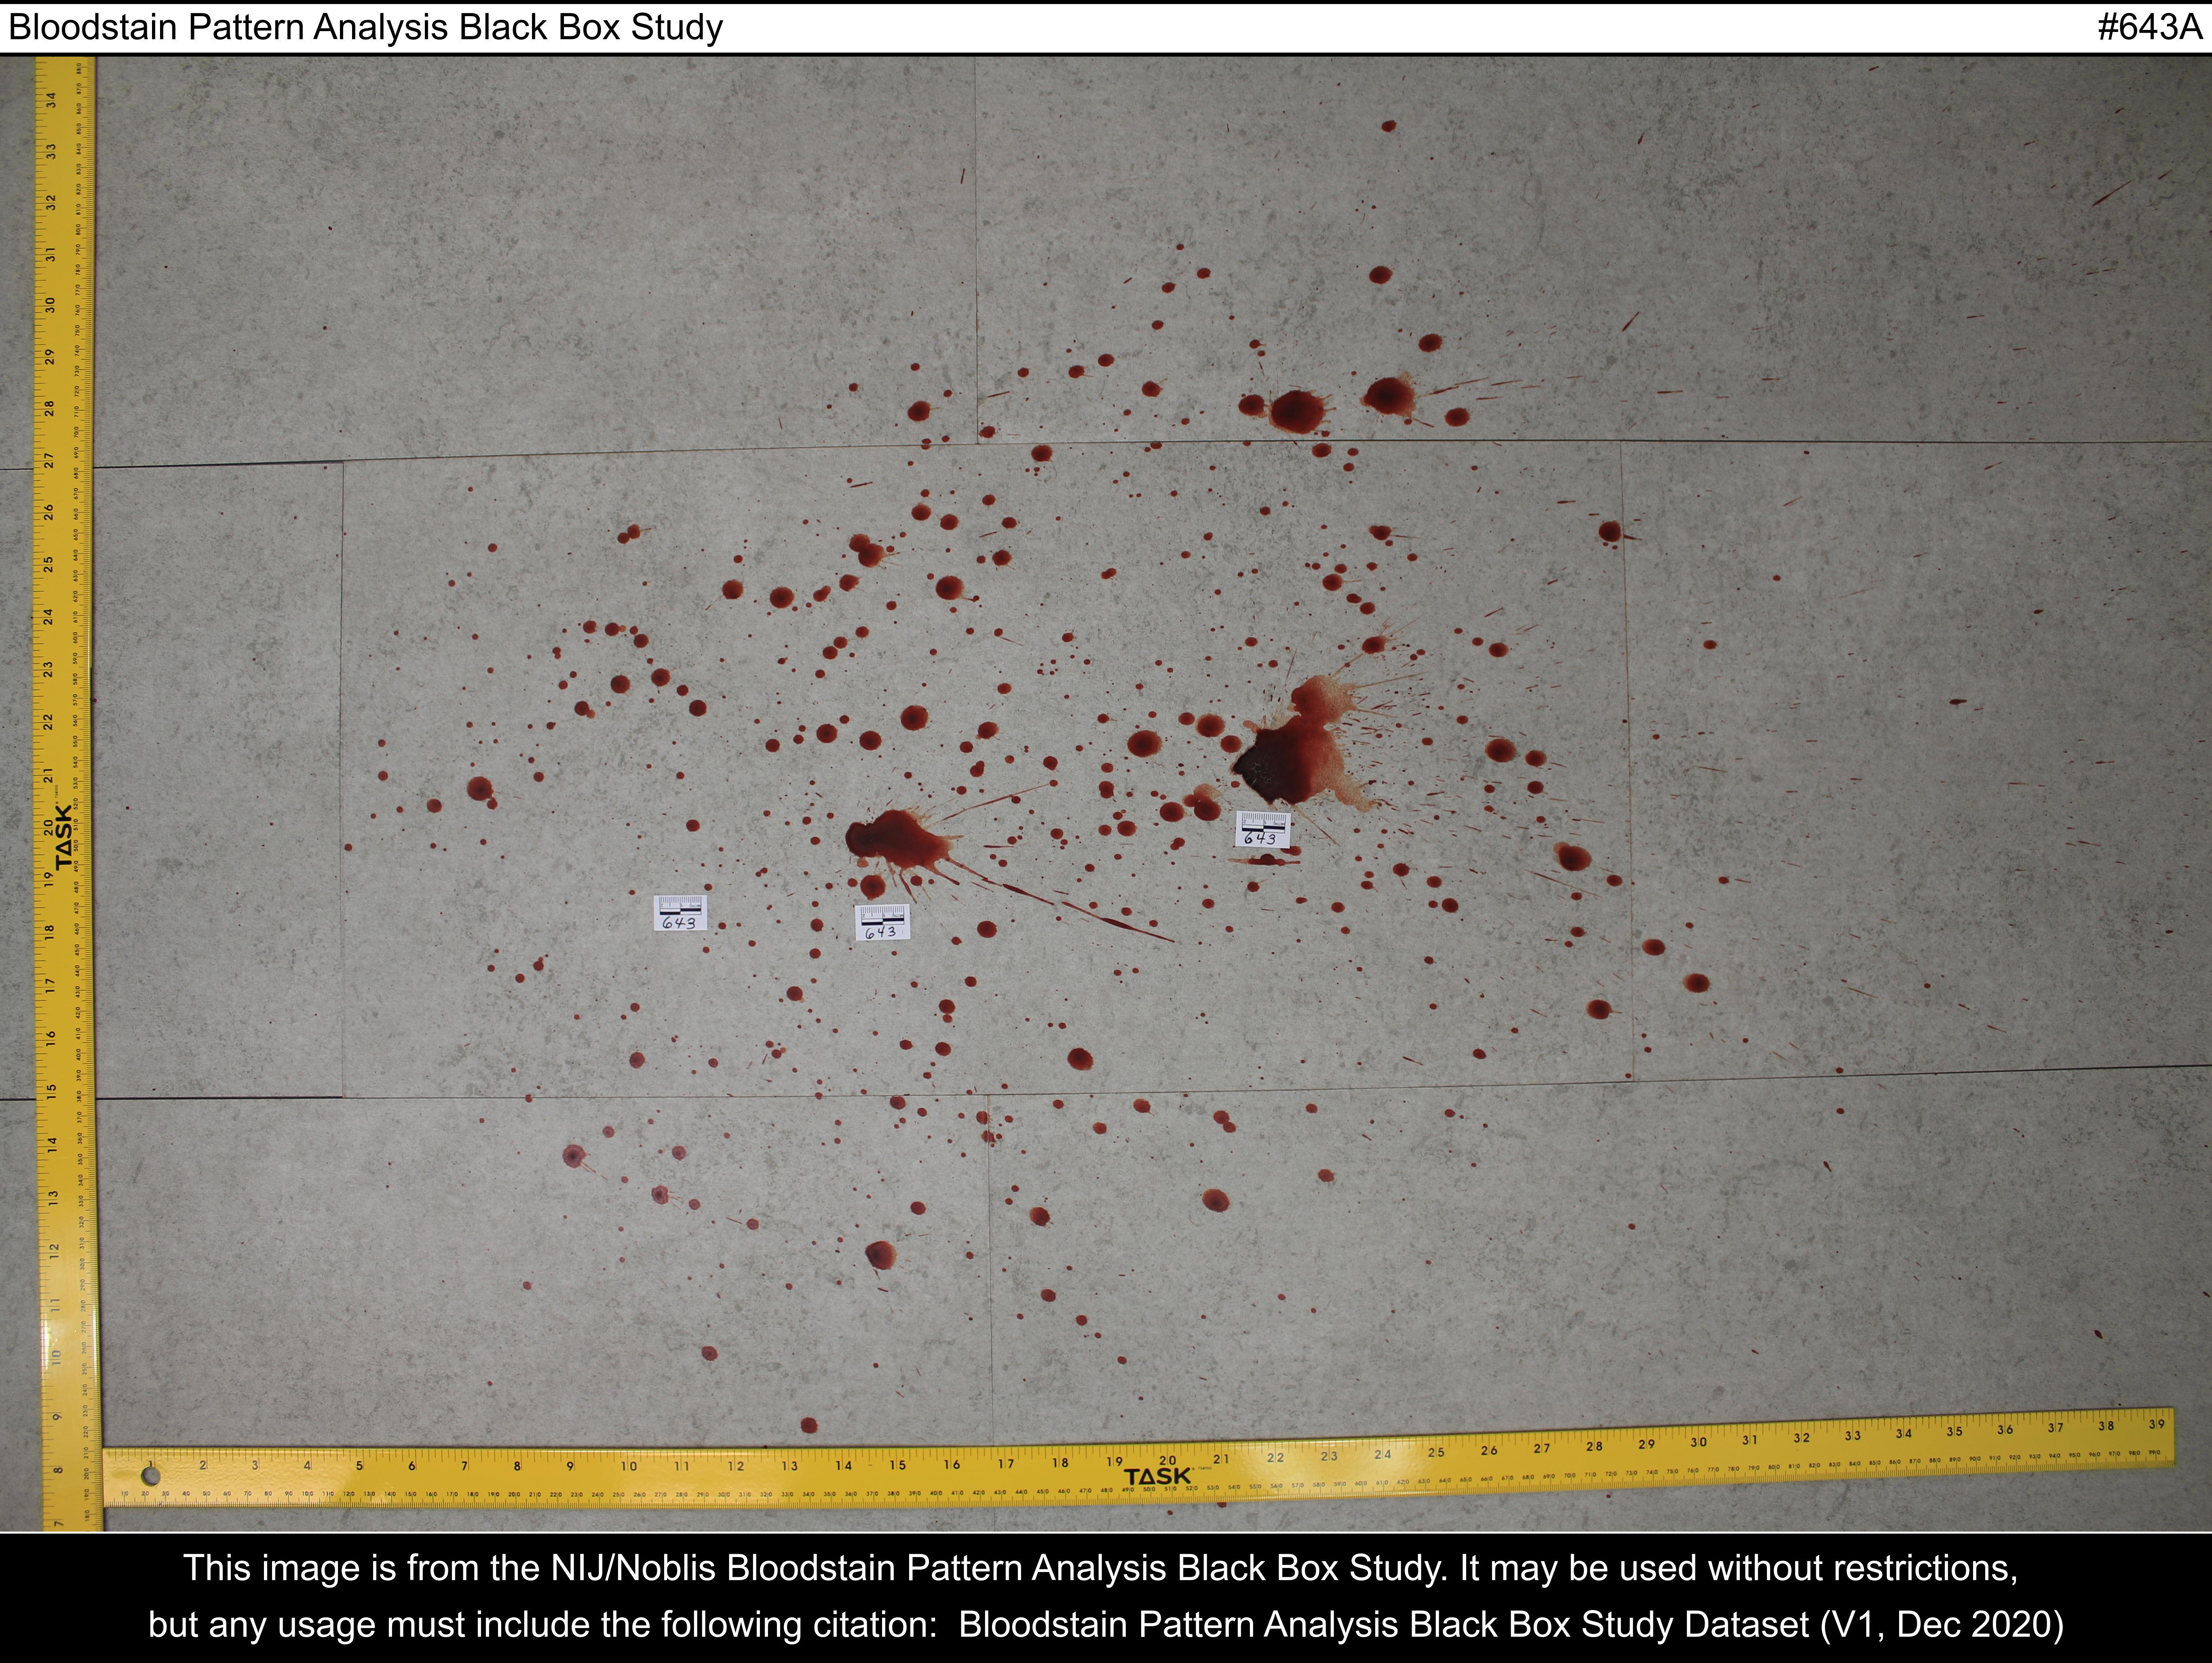Impact: (274, 182, 1884, 1375)
